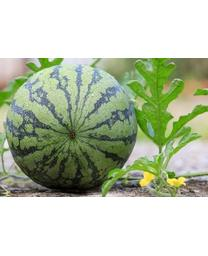watermelon: (4, 65, 137, 191)
